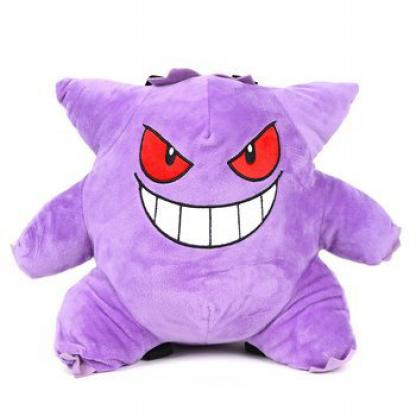Gengar: (1, 55, 393, 393)
